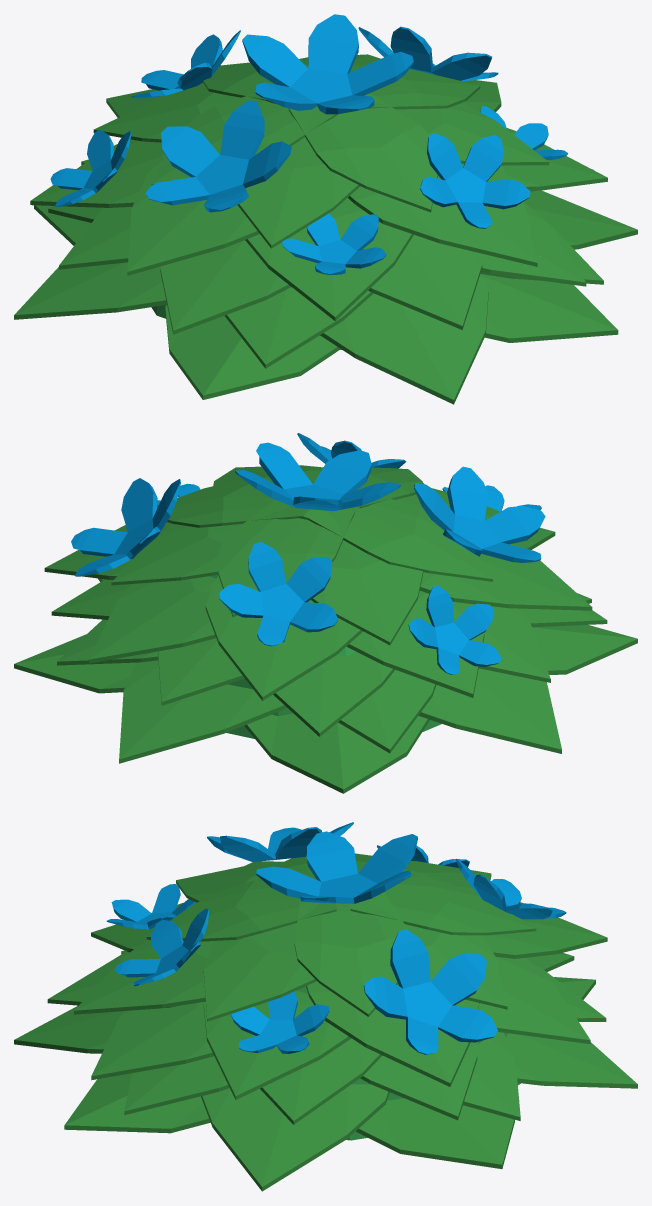
File: BushBlueFlowers.fbx
3 views of the same model, one above another, from view 1: azimuth 30°, elevation 25°; view 2: azimuth 150°, elevation 25°; view 3: azimuth 270°, elevation 25° (orthographic). The views are drawn at different scales.
Visible parts, largest first — view 1: BushBlueFlowers; view 2: BushBlueFlowers; view 3: BushBlueFlowers.
Part boxes in pixels (bbox=[...]): BushBlueFlowers: bbox=[14, 14, 637, 404]; BushBlueFlowers: bbox=[14, 433, 637, 793]; BushBlueFlowers: bbox=[14, 822, 637, 1191].
Bounding box in the file's own units: 991 × 373 × 999.
